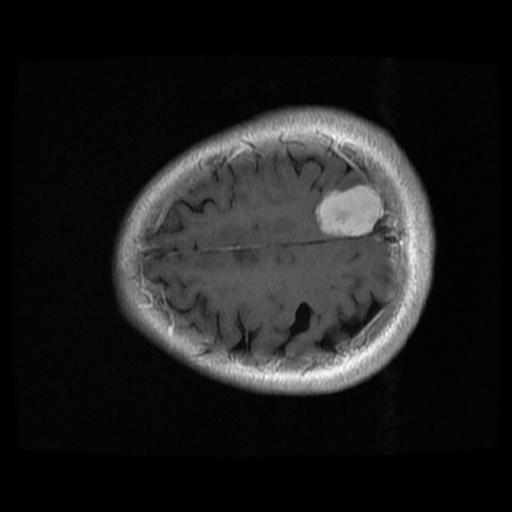meningioma: (315, 182, 384, 236)
